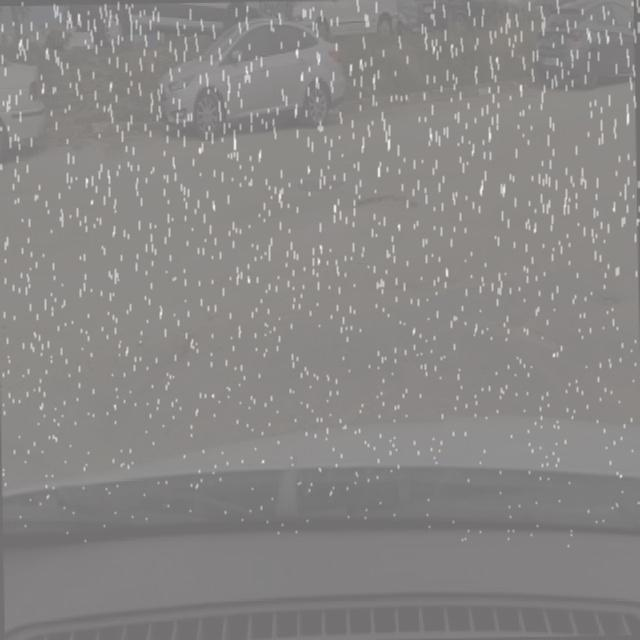Pothole: (346, 189, 429, 228)
